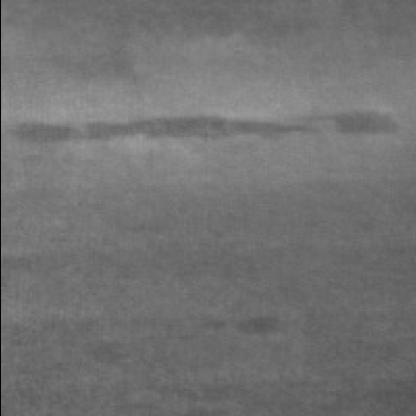inclusion: (10, 6, 262, 72), (6, 108, 326, 158), (283, 104, 401, 148), (183, 310, 287, 348)
